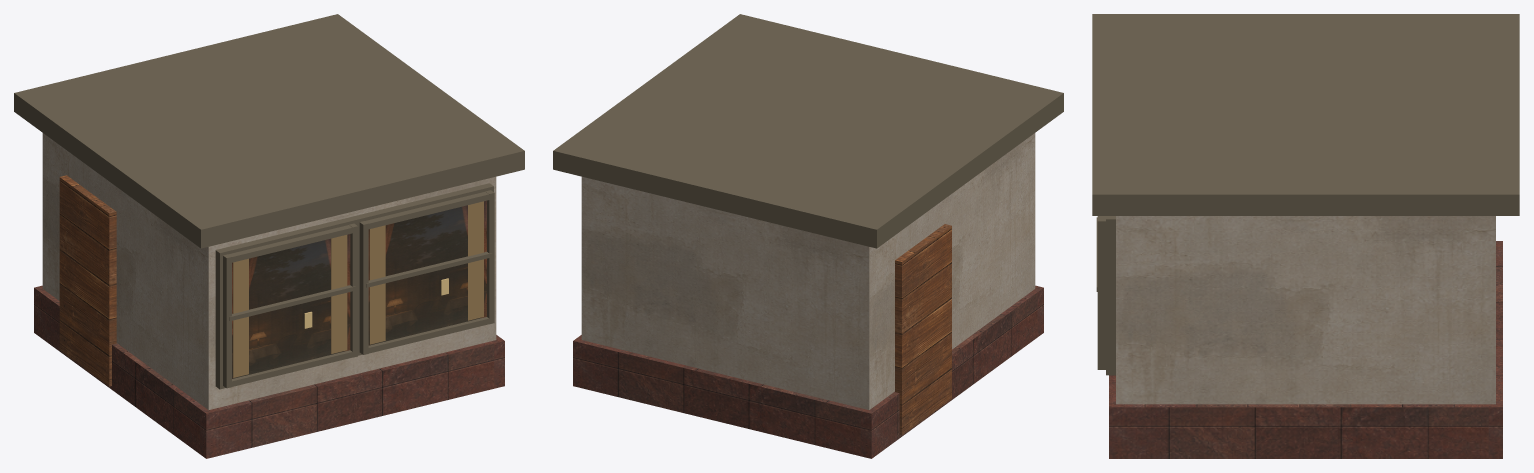
File: guardhouse.glb
3 views of the same model, side by side, from view 1: azimuth 30°, elevation 25°; view 2: azimuth 150°, elevation 25°; view 3: azimuth 270°, elevation 25° (orthographic). The views are drawn at different scales.
Parts seen in each view (by area): view 1: guardhouse; view 2: guardhouse; view 3: guardhouse.
Part boxes in pixels (x1,y1,x2,y2): guardhouse: [14, 14, 524, 458]; guardhouse: [553, 14, 1063, 458]; guardhouse: [1092, 14, 1519, 458].
Bounding box in the file's own units: 4.5 × 3.15 × 4.5.
Materials: 6 (3 with a texture image).
